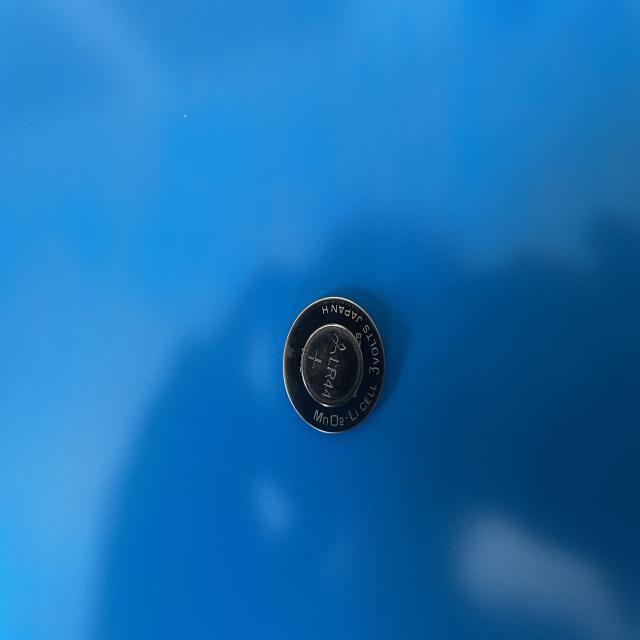COIN: (282, 293, 387, 436), (301, 324, 364, 408)
